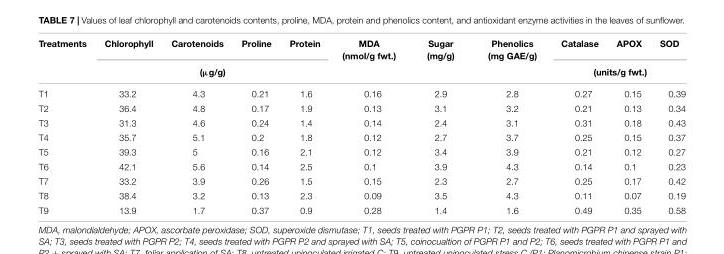table: (37, 37, 684, 214)
table column: (330, 37, 410, 214), (470, 37, 548, 214), (161, 37, 231, 214), (94, 37, 161, 214), (410, 37, 470, 214), (548, 37, 606, 214), (37, 37, 94, 214), (279, 37, 330, 214), (231, 37, 279, 214), (606, 37, 649, 214), (649, 37, 684, 214)
table column header: (37, 37, 684, 82)
table row: (37, 37, 684, 62), (37, 62, 684, 82), (37, 82, 684, 100), (37, 114, 684, 129), (37, 129, 684, 144), (37, 158, 684, 173), (37, 187, 684, 202), (37, 100, 684, 114), (37, 144, 684, 158), (37, 173, 684, 187), (37, 202, 684, 214)
table spanning cell: (94, 62, 330, 82), (330, 37, 410, 82), (470, 37, 548, 82), (548, 62, 684, 82), (410, 37, 470, 82), (37, 37, 94, 82)
